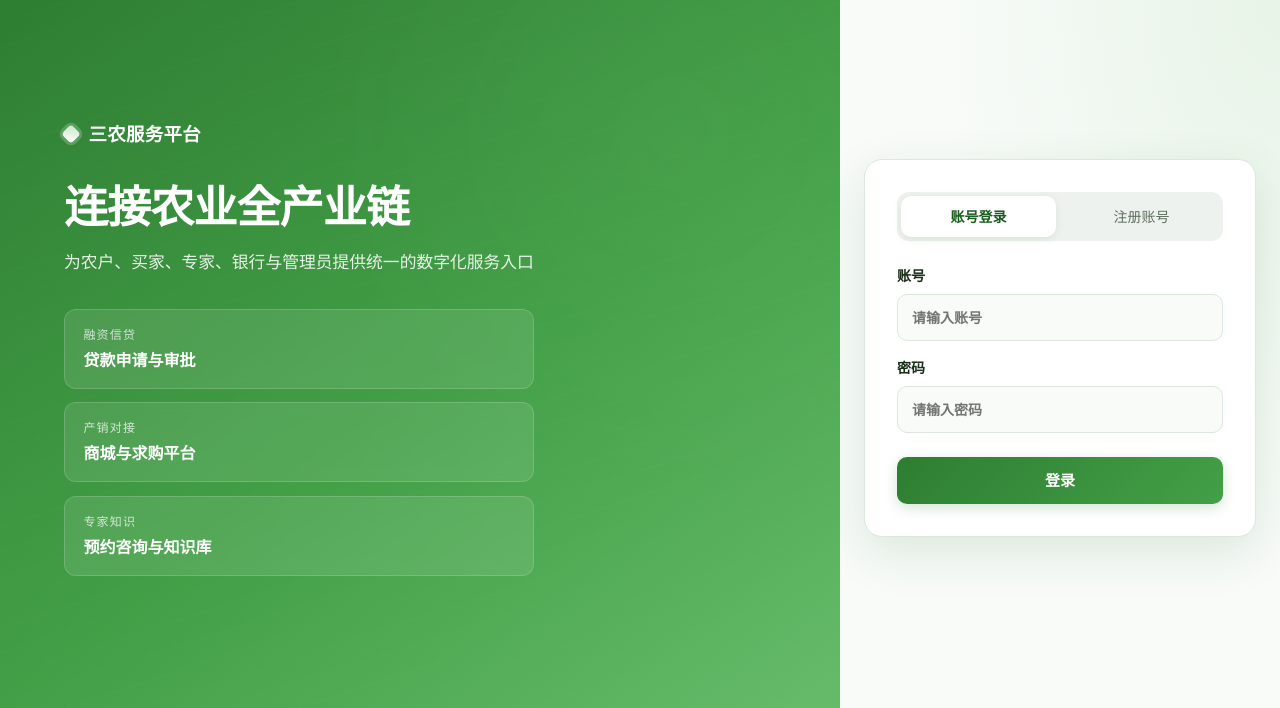
Test: Login page › rejects mismatched passwords on register
Step 1. Click the button "注册账号" → (1142, 217), box [1064, 196, 1219, 237]
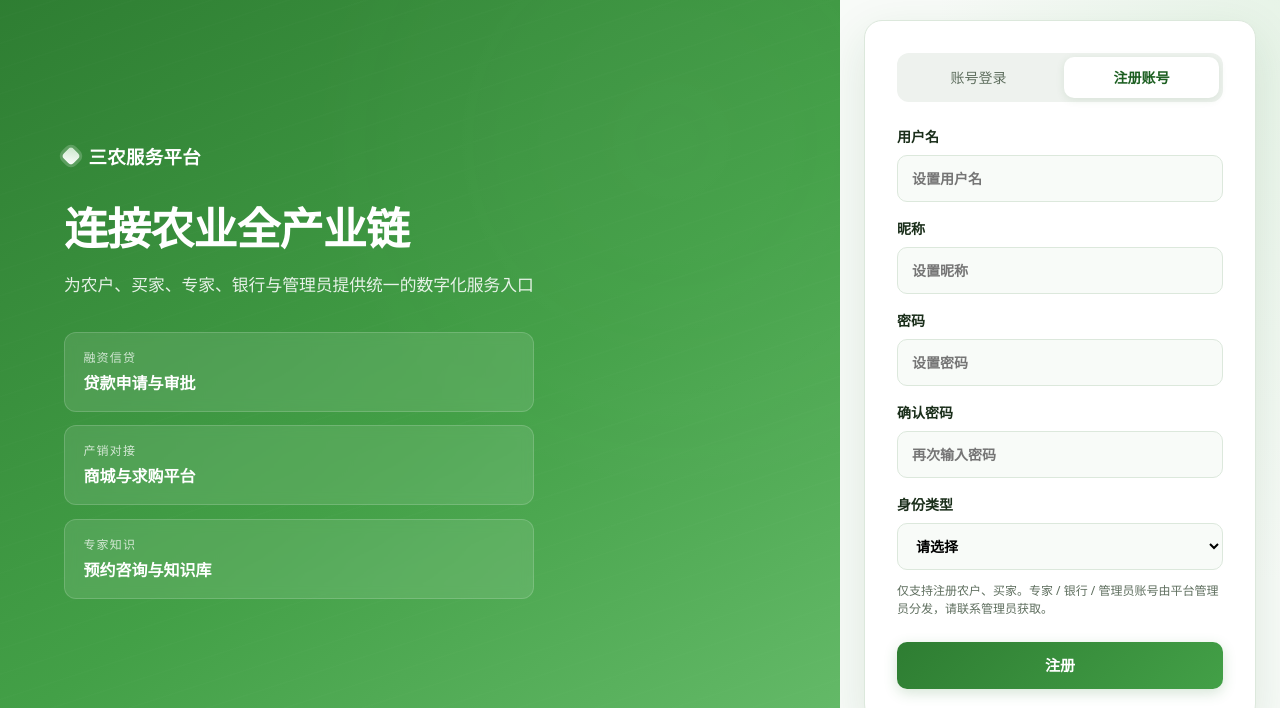
Step 2. Type "buyer01" into the field labelled "用户名" → (1060, 178), box [897, 155, 1223, 202]
Step 3. Type "买家" into the field labelled "昵称" → (1060, 270), box [897, 247, 1223, 294]
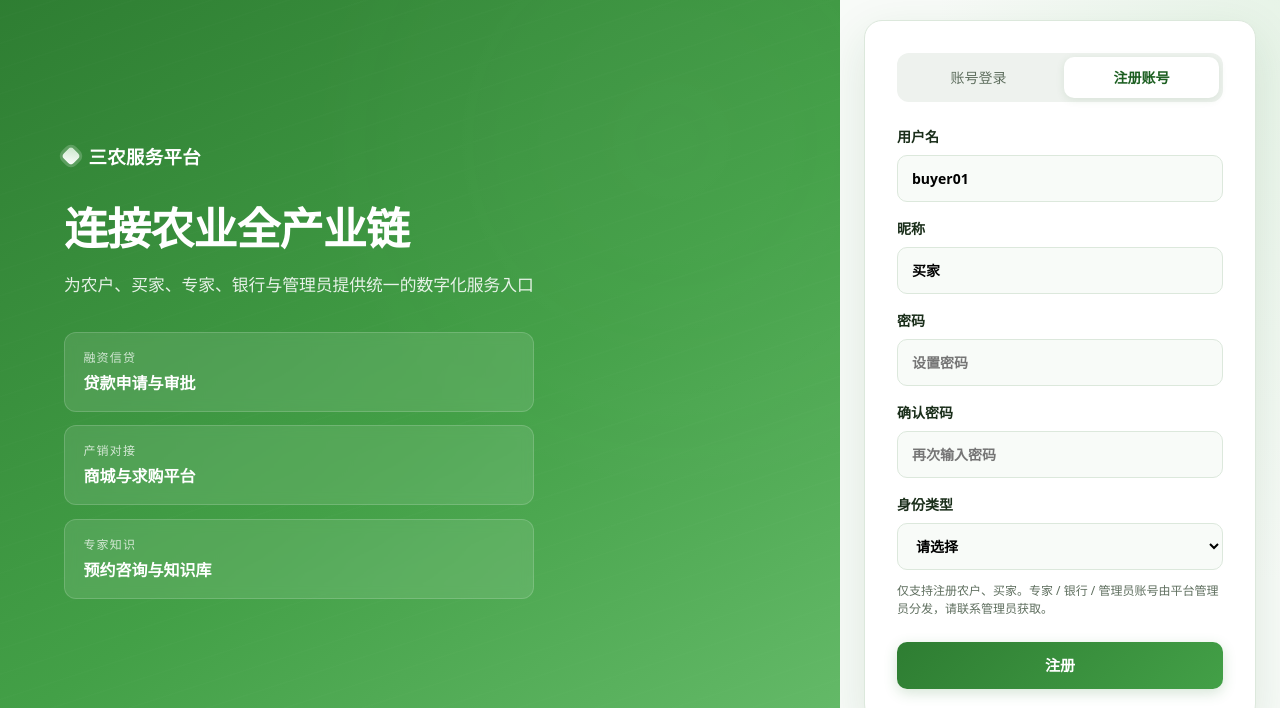
Step 4. Type "123456" into the password field labelled "密码" → (1060, 362), box [897, 339, 1223, 386]
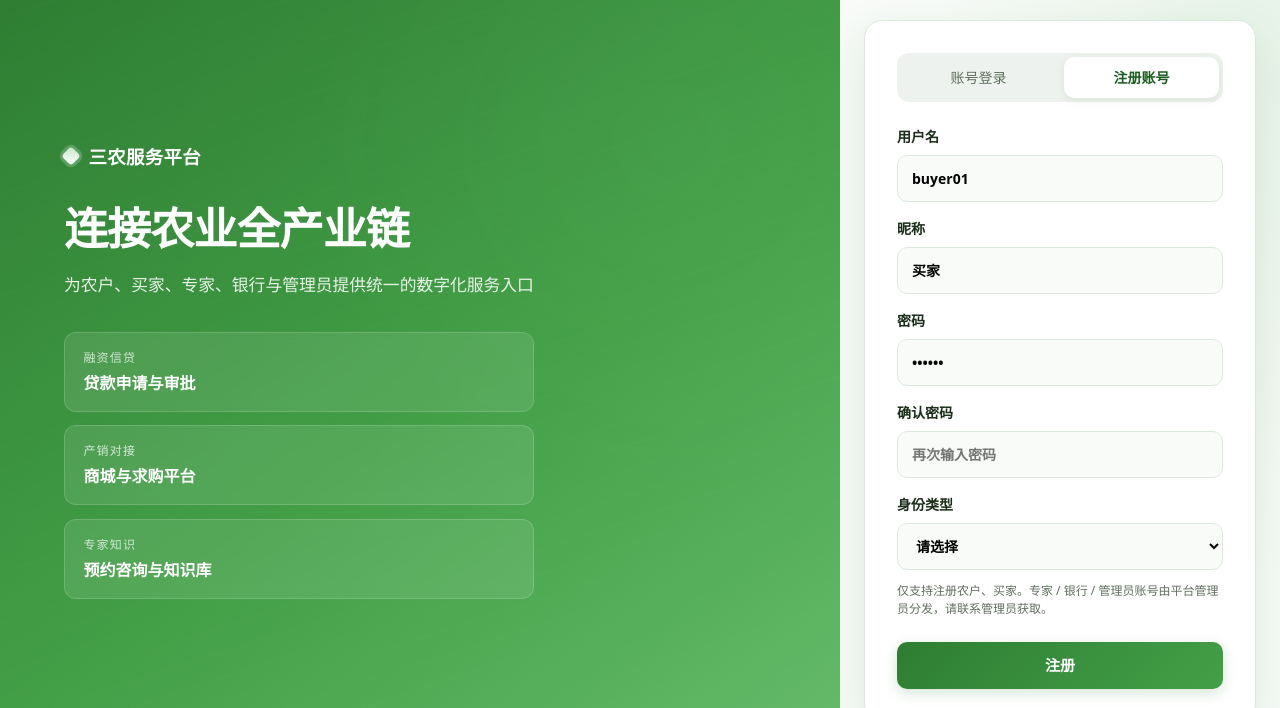
Step 5. Type "654321" into the password field labelled "确认密码" → (1060, 454), box [897, 431, 1223, 478]
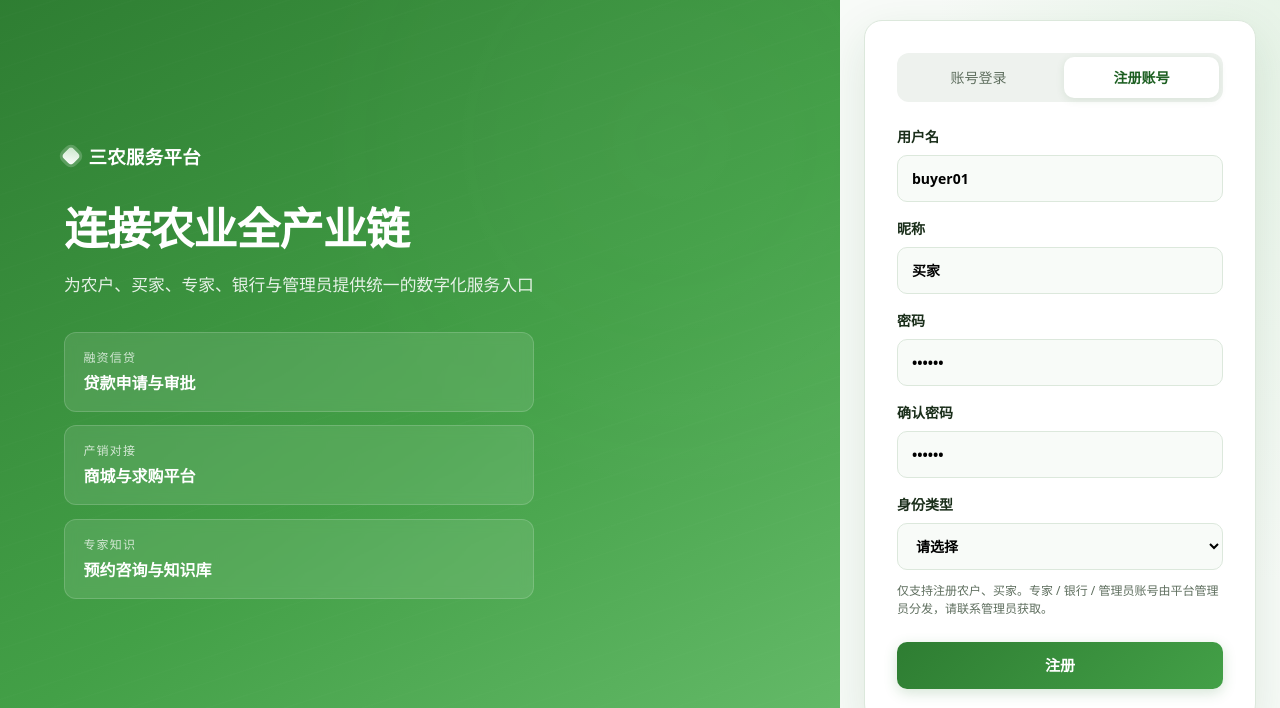
Step 6. Select "买家" in the dropdown labelled "身份类型" → (1060, 546), box [897, 523, 1223, 570]
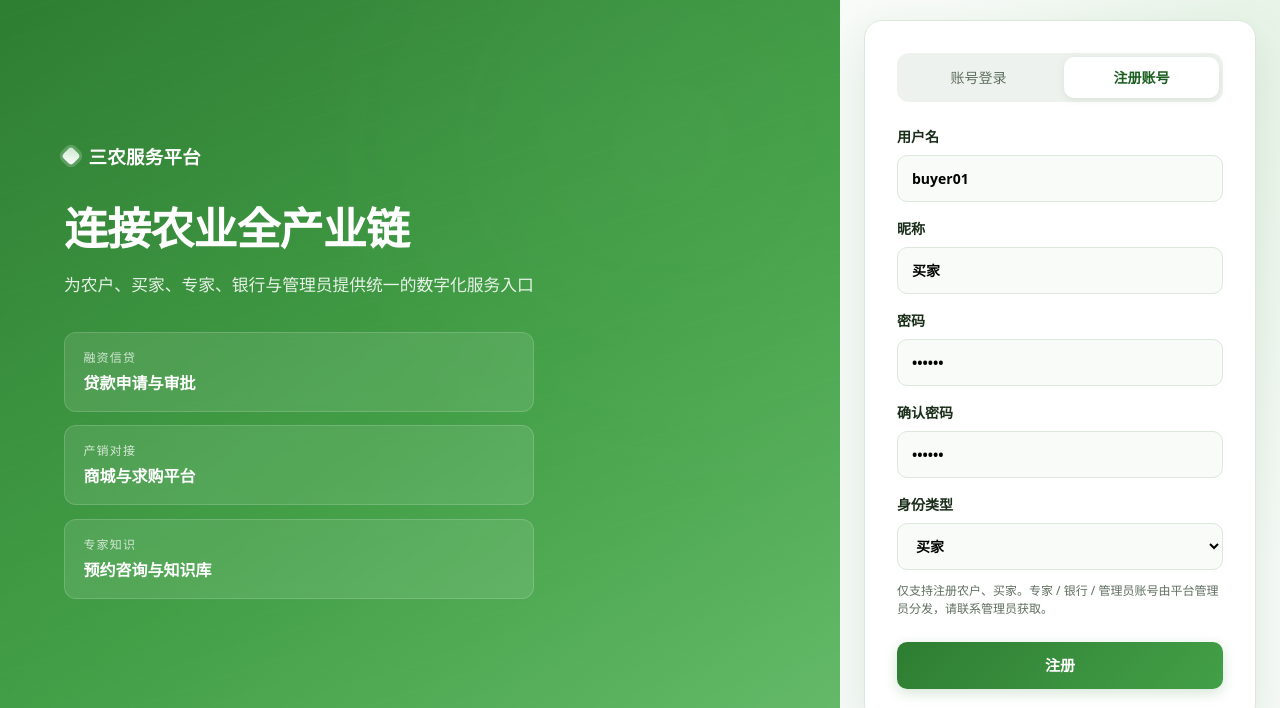
Step 7. Click the button "注册" → (1060, 665), box [897, 642, 1223, 688]
(page scrolled)
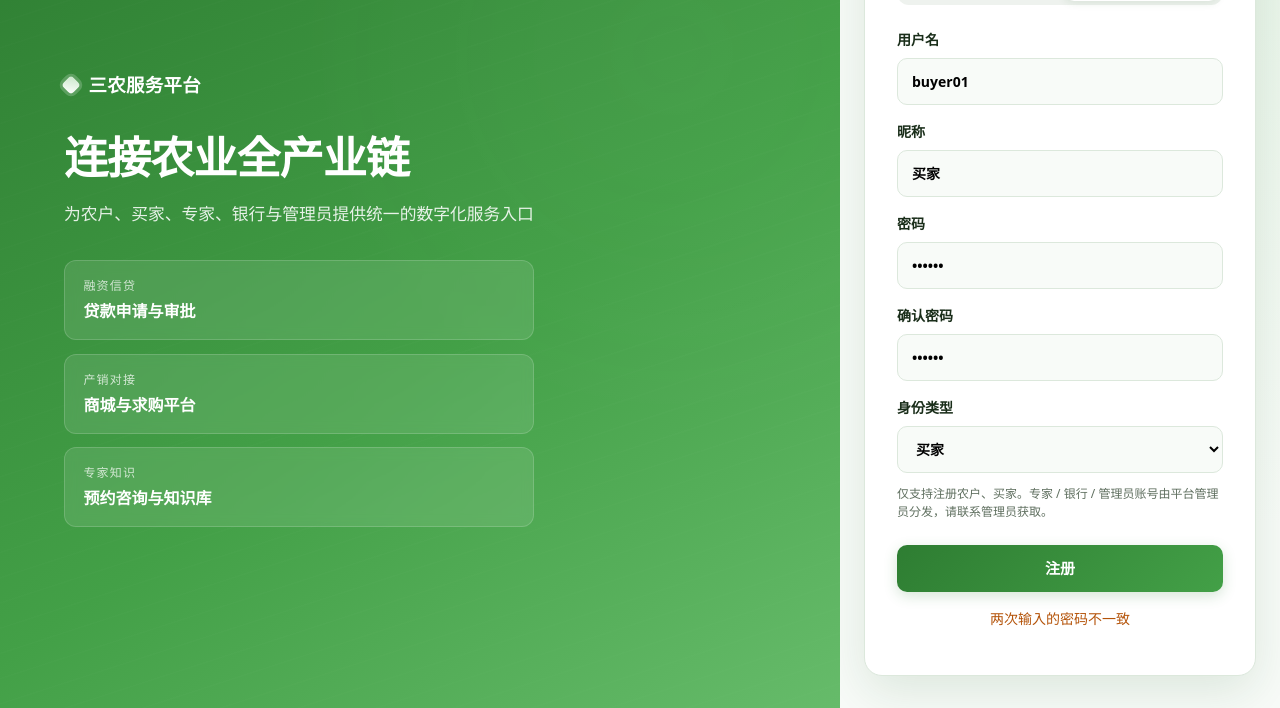
expect the text "两次输入的密码不一致" is shown: met, box [990, 608, 1130, 628]
